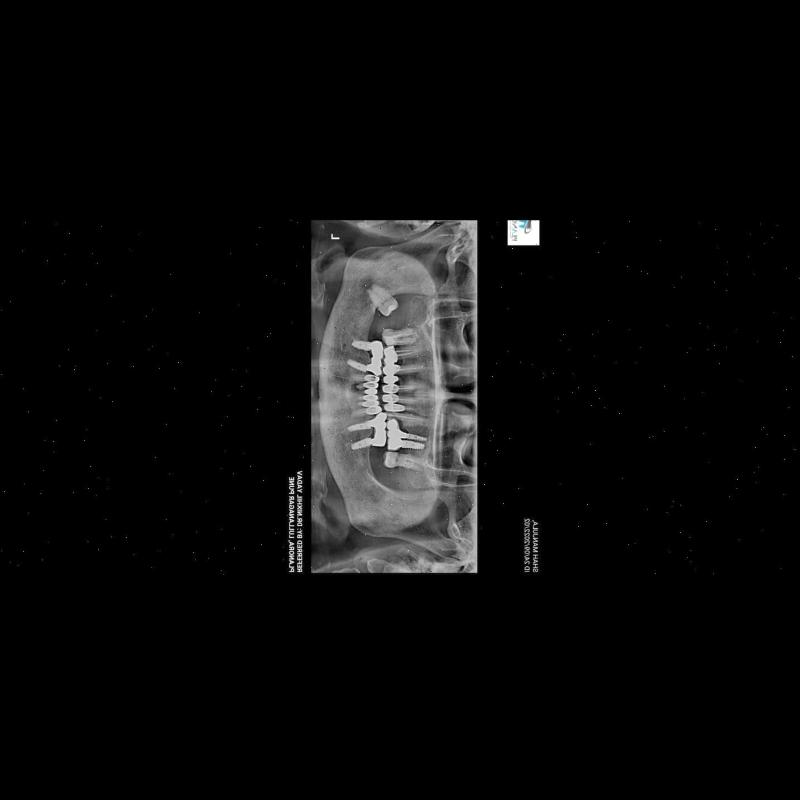MIS: (345, 358, 367, 374), (348, 438, 372, 450), (346, 420, 370, 432), (401, 440, 426, 450), (351, 340, 370, 352)
